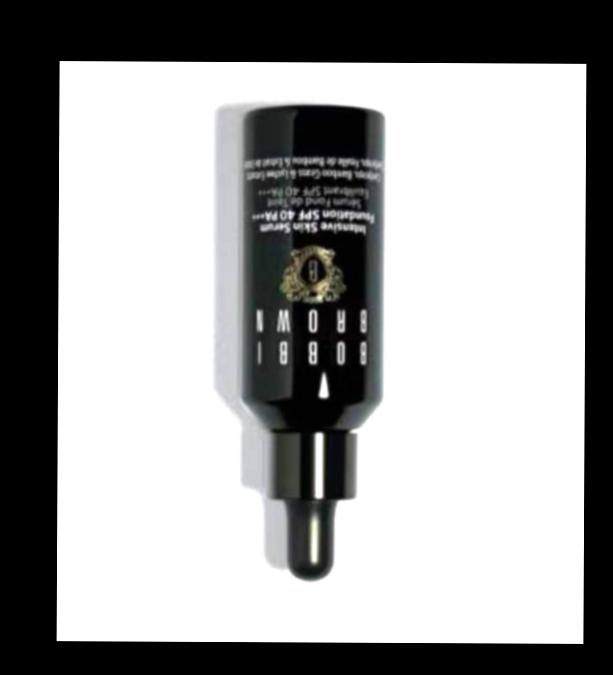cosmetic: (242, 114, 389, 581)
